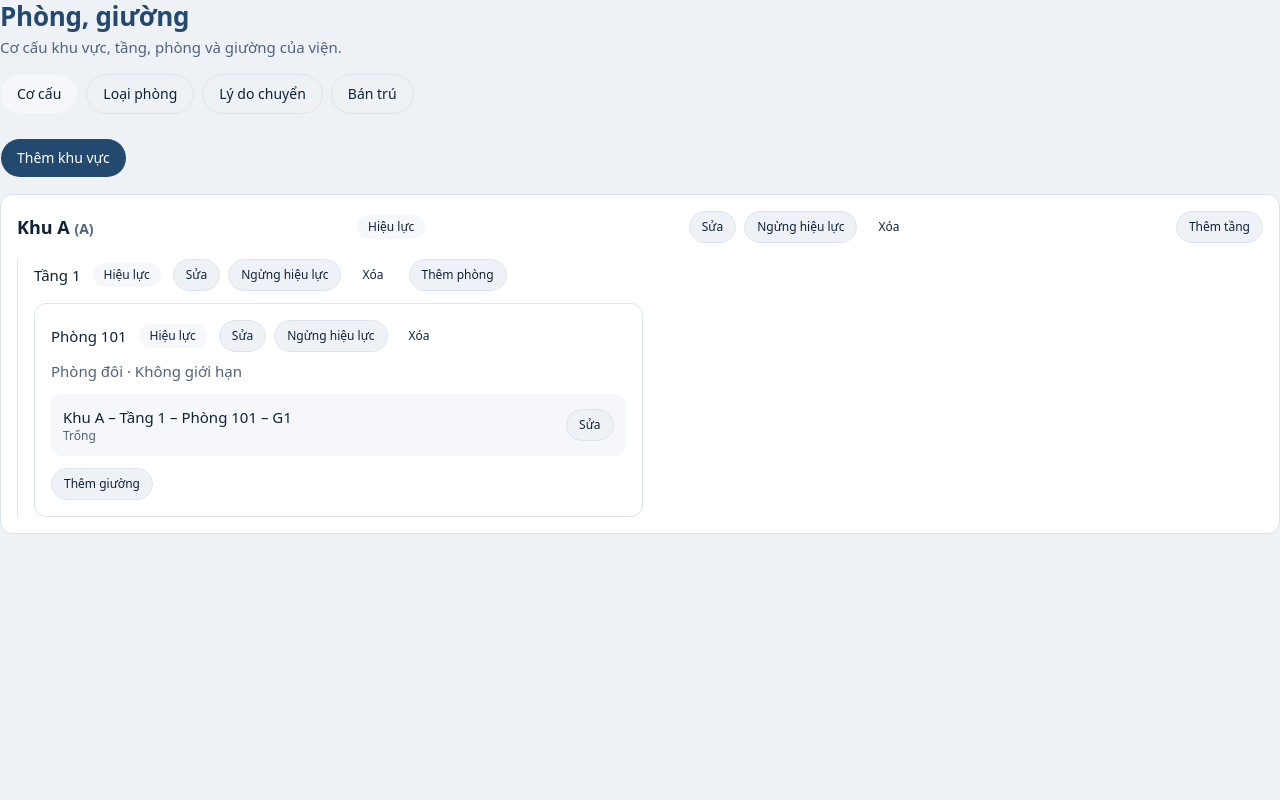
Scenario: BR_M03_22_bedCreationKeepsTheSuccessfulWarningVisible
Click the button with aria-label "Thêm giường Phòng 101".
click(102, 484)  # box [51,468,153,500]
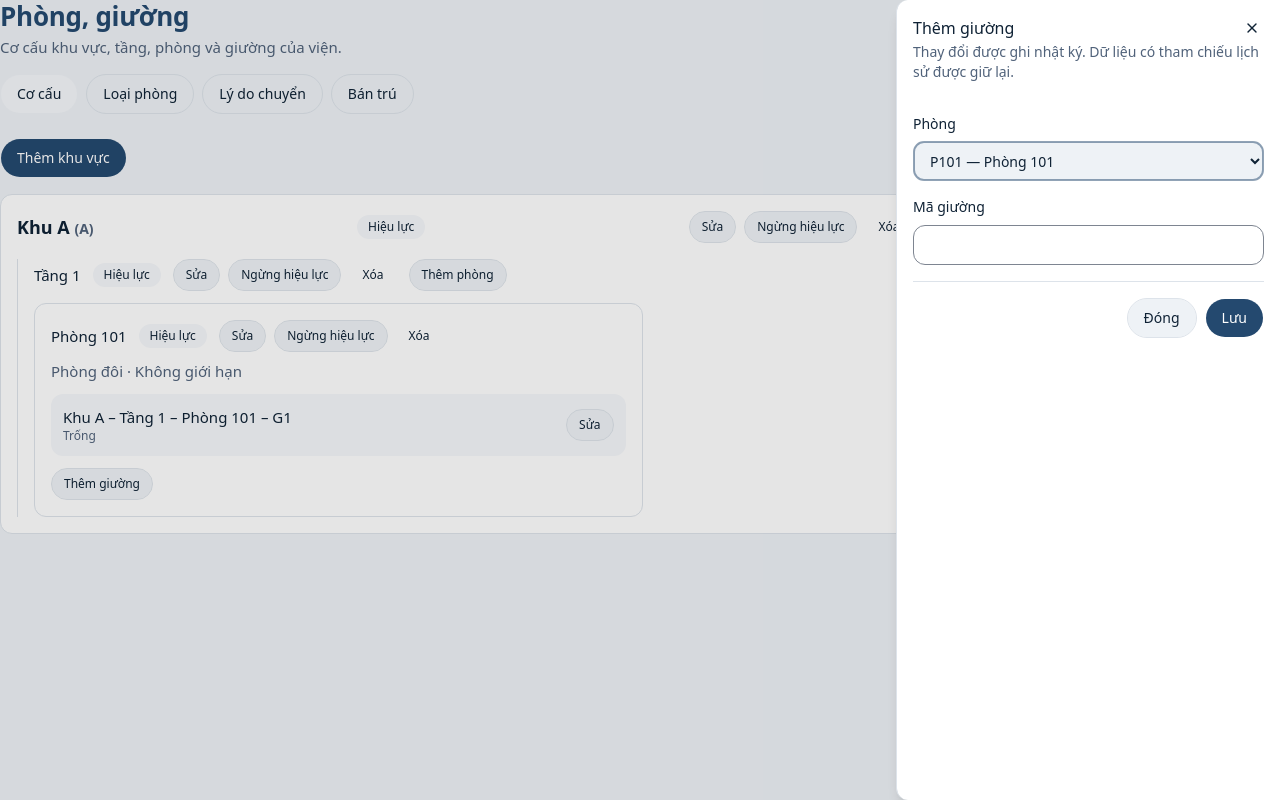
Type "G2" into the field labelled "Mã giường".
click(1088, 244); type("G2")  # box [913,224,1264,264]
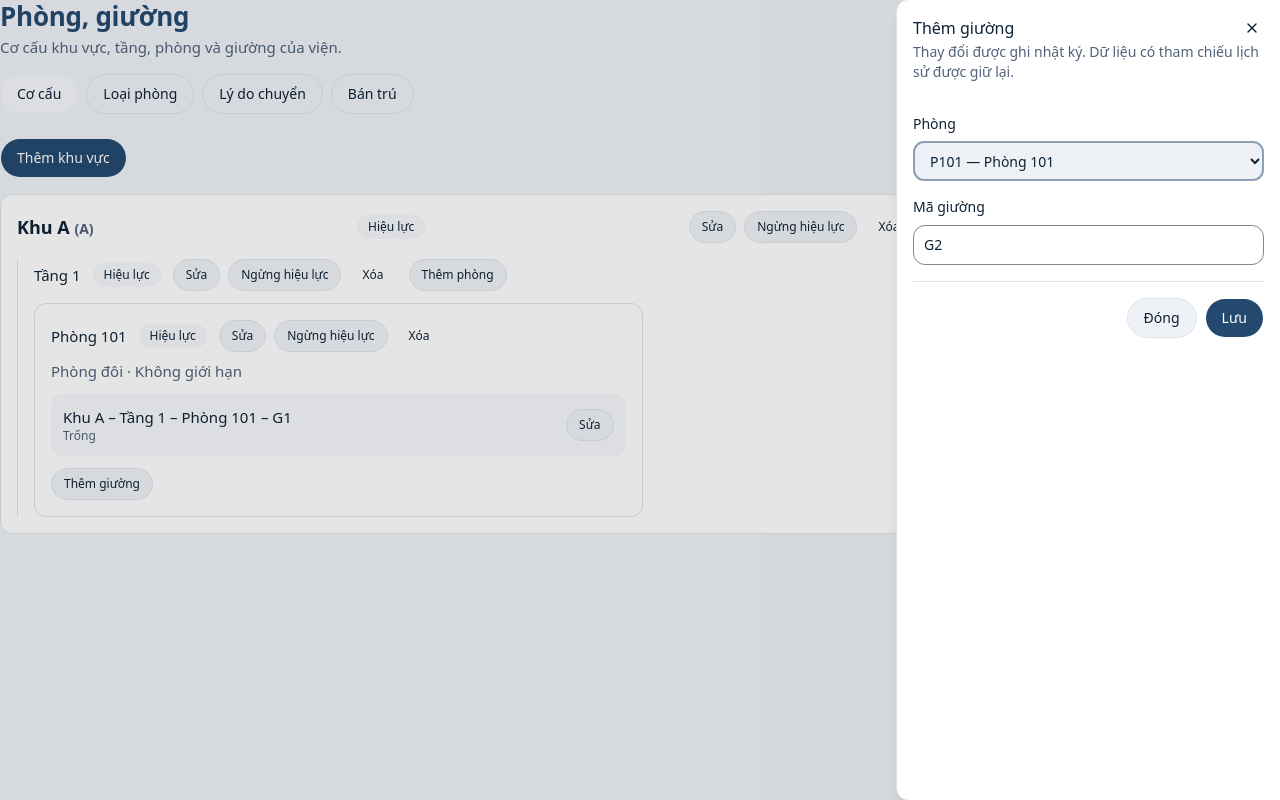
Click the button "Lưu".
click(1234, 318)  # box [1205,298,1264,338]
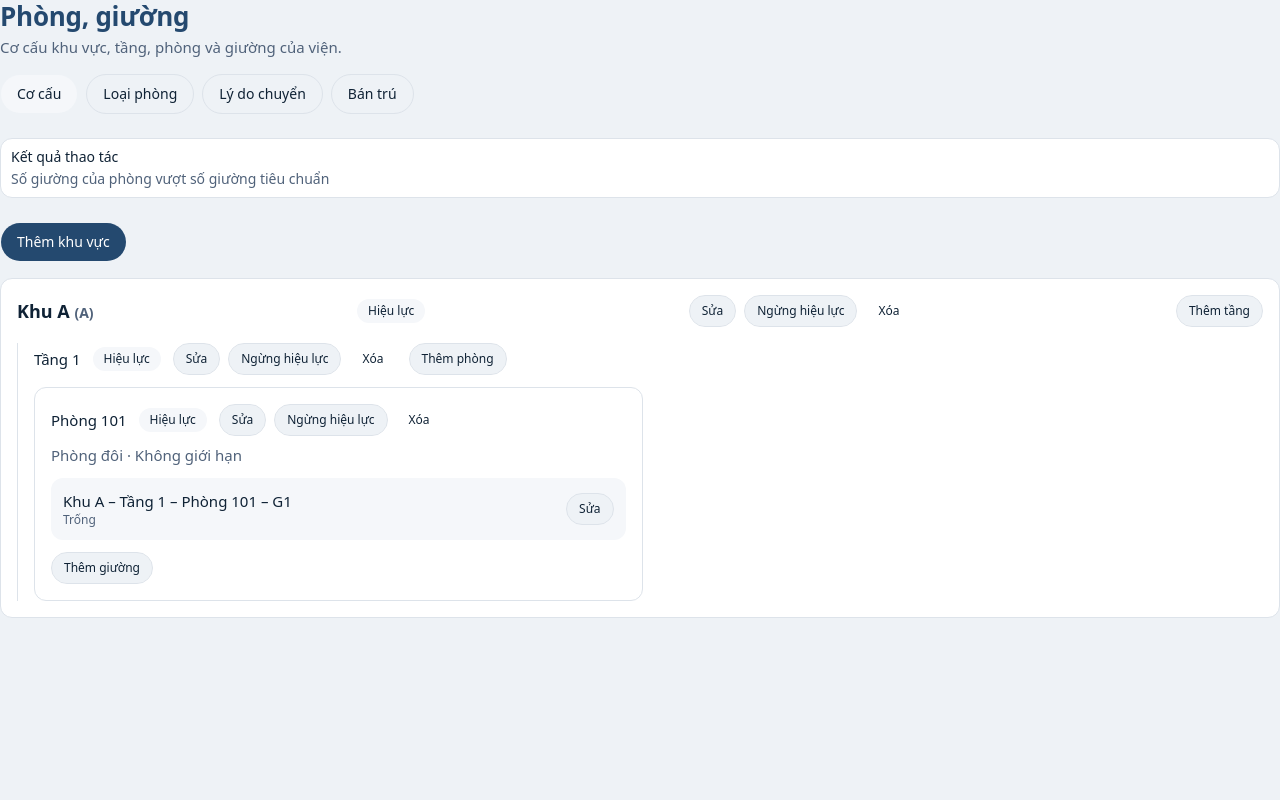
Check: the text "Số giường của phòng vượt số giường tiêu chuẩn" is shown, box [11,169,329,188]
